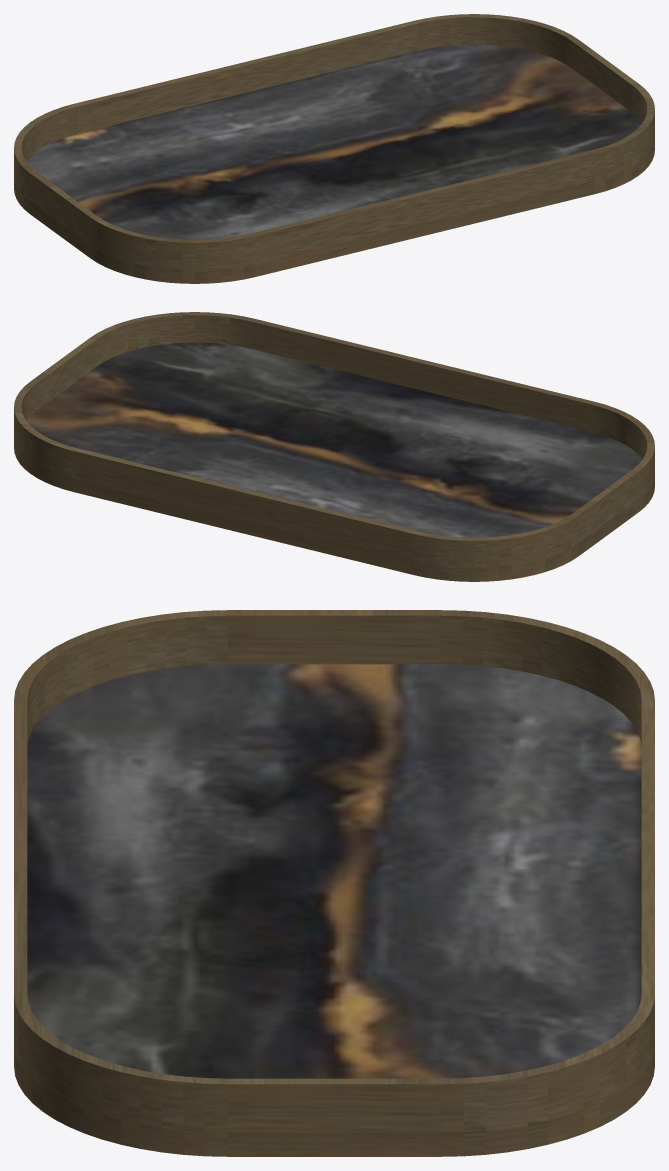
File: Bronze_OrganicGlassValetTray-Rectangular.glb
3 views of the same model, one above another, from view 1: azimuth 30°, elevation 25°; view 2: azimuth 150°, elevation 25°; view 3: azimuth 270°, elevation 25° (orthographic). The views are drawn at different scales.
Visible parts, largest first — view 1: model; view 2: model; view 3: model.
Part boxes in pixels (left/top/right/bottom): model: left=14, top=14, right=654, bottom=283; model: left=14, top=312, right=654, bottom=581; model: left=14, top=610, right=654, bottom=1156.
Size of the model in its own units: 0.42 by 0.03 by 0.24.
2 materials, 2 textured.
